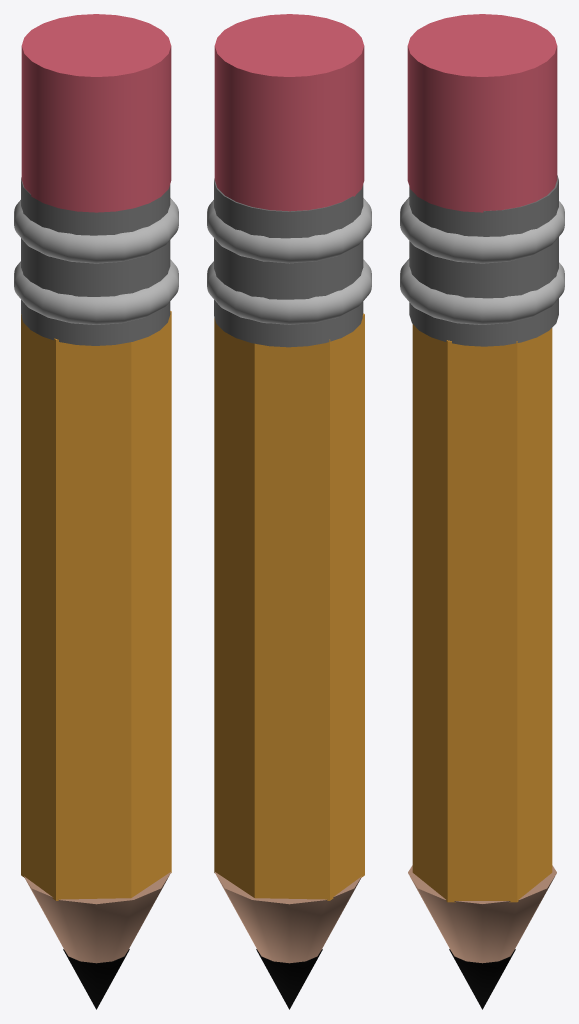
File: pencil.obj
3 views of the same model, side by side, from view 1: azimuth 30°, elevation 25°; view 2: azimuth 150°, elevation 25°; view 3: azimuth 270°, elevation 25° (orthographic).
Visible parts, largest first — view 1: Cylinder2, Cylinder, Cylinder1, Cone, Torus, Torus1, Cone1; view 2: Cylinder2, Cylinder, Cylinder1, Cone, Torus, Torus1, Cone1; view 3: Cylinder2, Cylinder, Cylinder1, Cone, Torus1, Torus, Cone1.
Part boxes in pixels (x1,y1,x2,y2): Cylinder2: (21,311,171,900); Cylinder: (21,14,171,212); Cylinder1: (21,177,170,345); Cone: (24,872,170,963); Torus: (14,259,178,324); Torus1: (14,198,178,263); Cone1: (63,949,129,1009); Cylinder2: (214,313,364,900); Cylinder: (214,14,364,211); Cylinder1: (214,178,363,347); Cone: (215,872,361,963); Torus: (207,259,371,324); Torus1: (207,198,371,263); Cone1: (256,949,322,1009); Cylinder2: (412,324,552,902); Cylinder: (407,14,557,212); Cylinder1: (409,175,558,346); Cone: (408,865,556,963); Torus1: (400,197,564,263); Torus: (400,258,564,324); Cone1: (449,949,515,1009).
Size of the model in its own units: 1.12 by 7.12 by 1.1.
